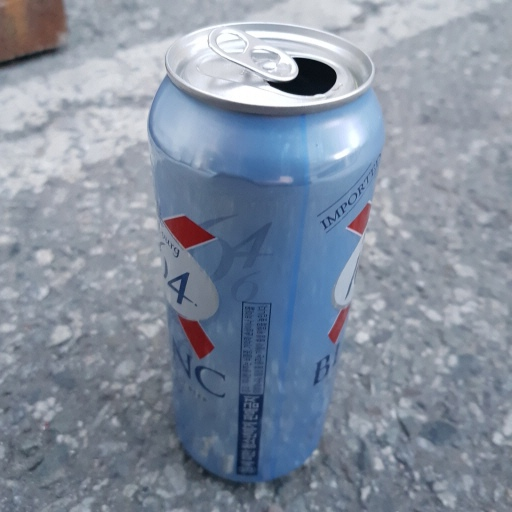Metal_0: (143, 21, 389, 486)
